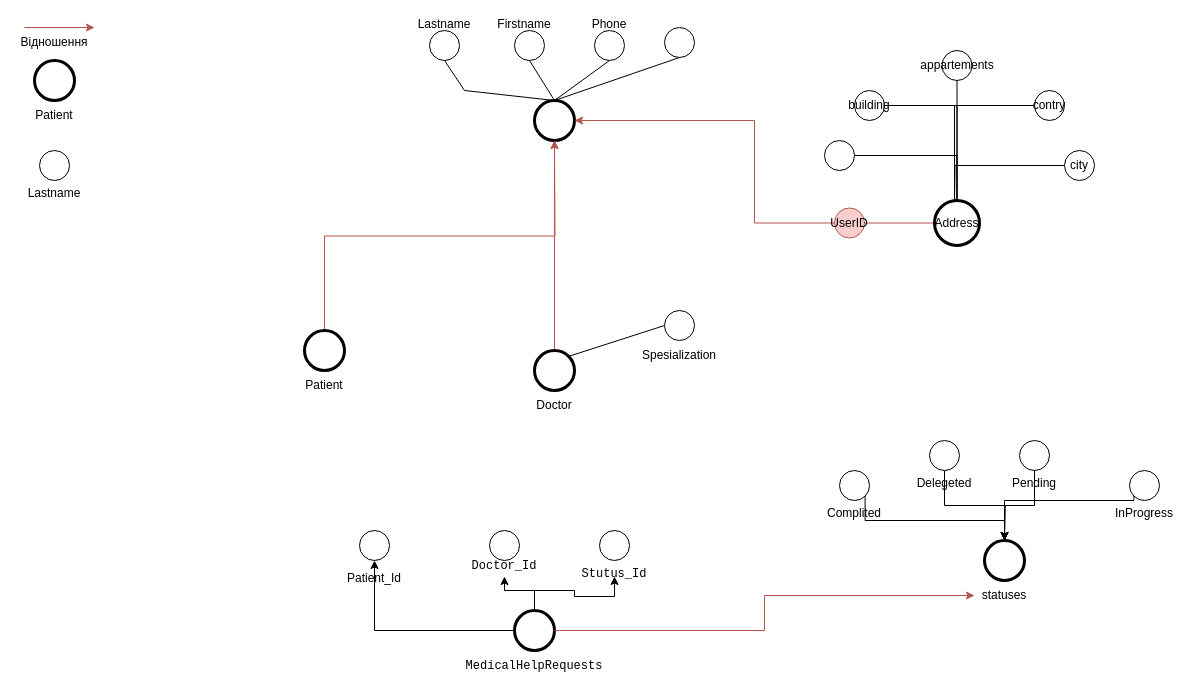
Some shapes in this 1191 by 698 pixel diagram are drawn without their labels. The shapes that lost their labels are listed below. From the top down, each one's centre as x and y in pixels, then its label:
the point at 554,120: User
the point at 839,155: street
